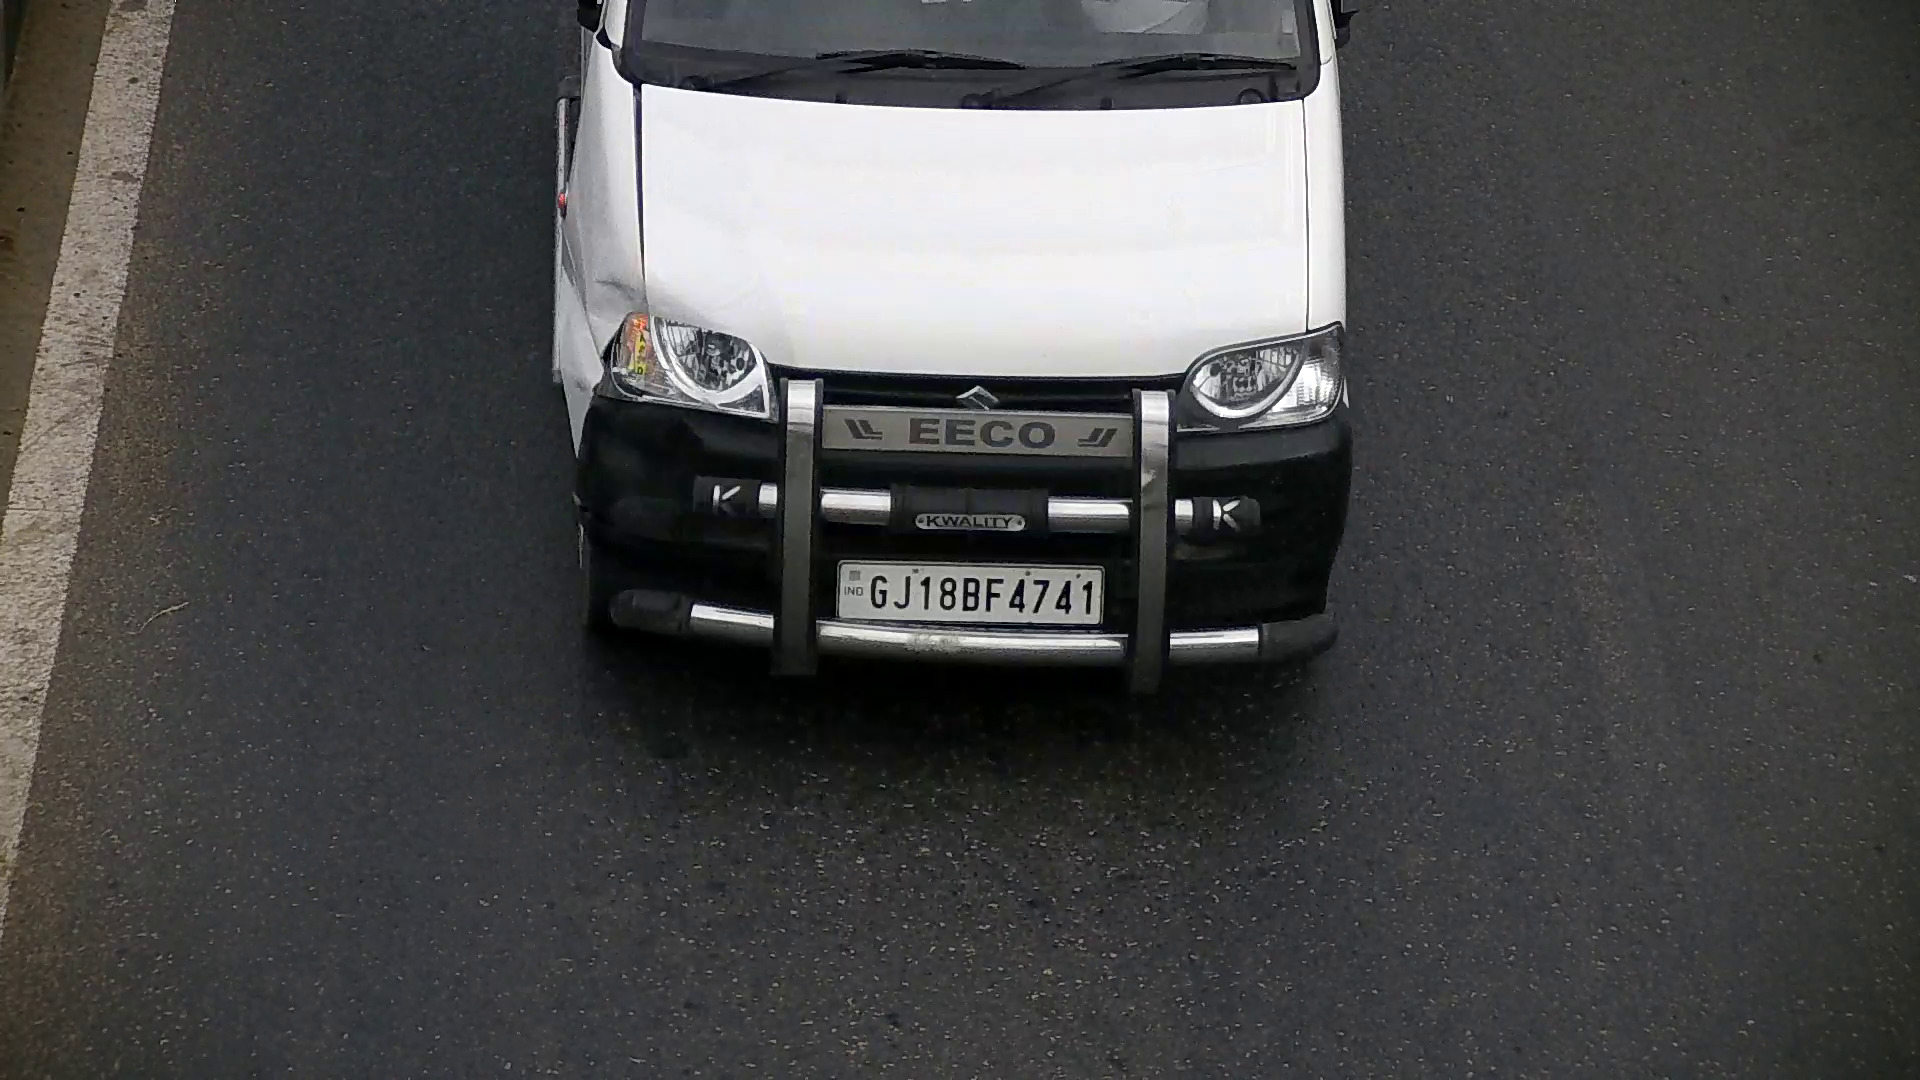numberplate: (833, 556, 1111, 626)
